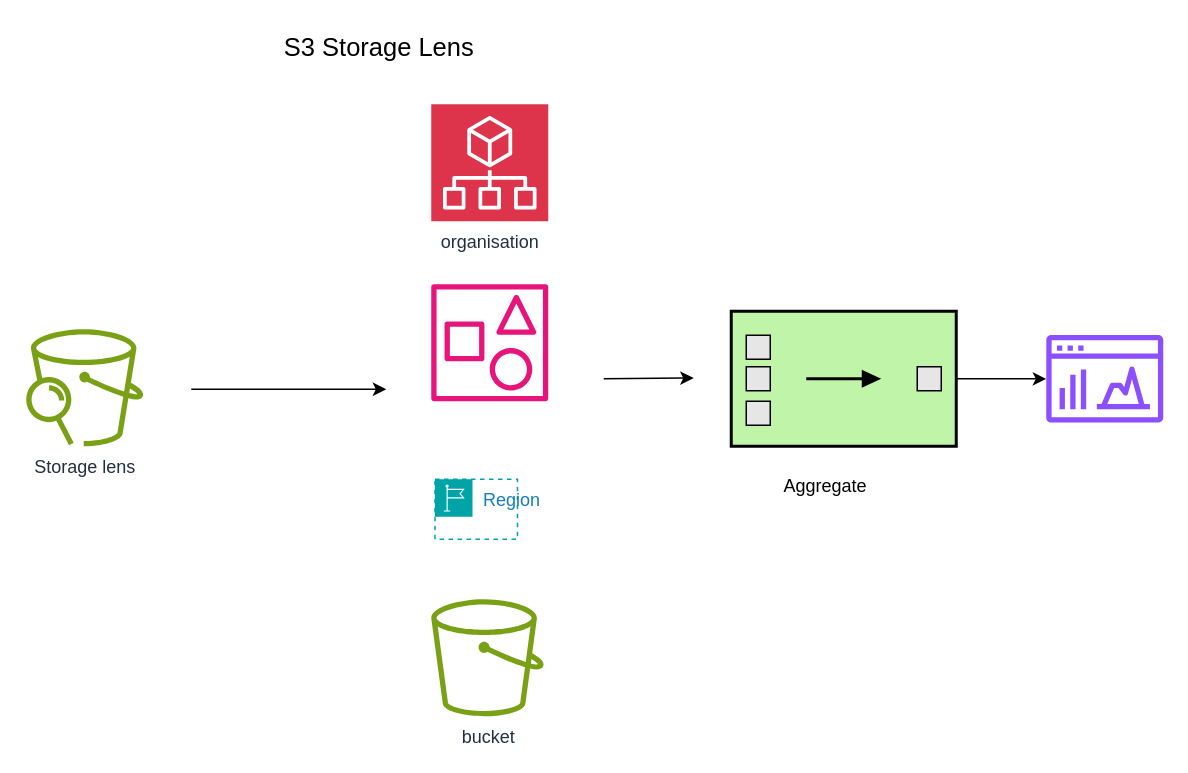
Image size: 1188x773. Some labels were removed from this diagram. The shapes that lost their labels are listed below. From the top down, each one's centre as x and y in pixels, then its label:
At pixel 489 342: "accounts".
At pixel 1104 378: "Analyse Dashboard".
